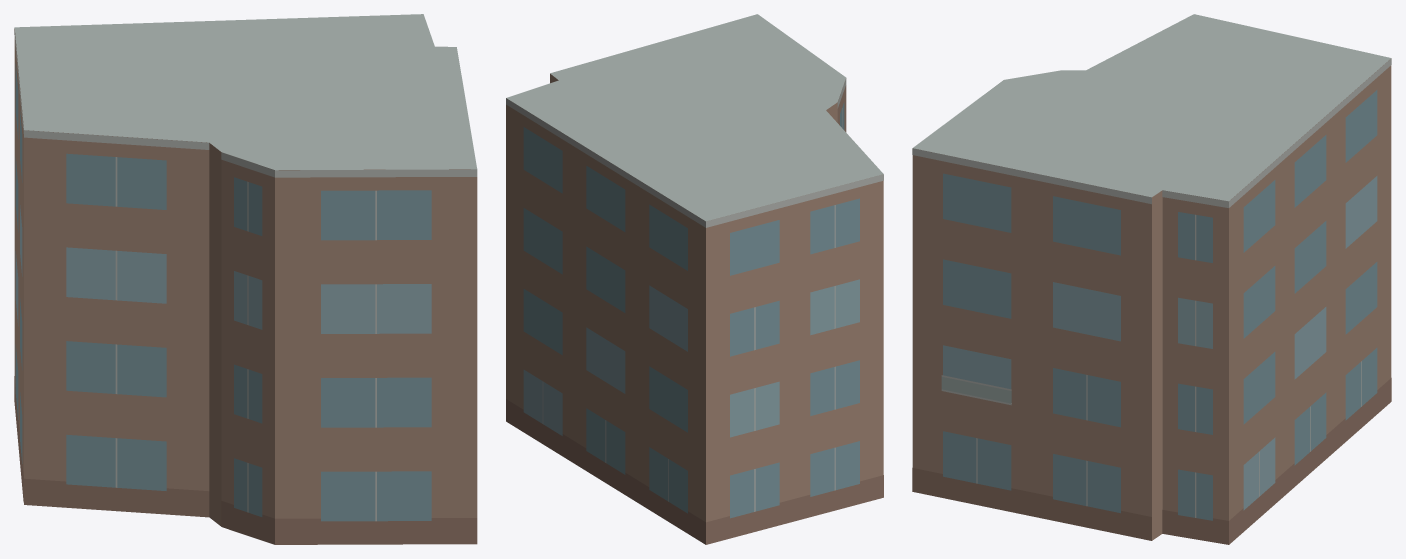
Rendered from survey-upis-32781270.glb.
The picture shows the model from 3 angles, left to right: view 1: azimuth 30°, elevation 25°; view 2: azimuth 150°, elevation 25°; view 3: azimuth 270°, elevation 25°; orthographic projection. The views are drawn at different scales.
Parts seen in each view (by area): view 1: survey-upis-32781270.tmp; view 2: survey-upis-32781270.tmp; view 3: survey-upis-32781270.tmp.
Part boxes in pixels (x1,y1,x2,y2): survey-upis-32781270.tmp: [14, 14, 477, 544]; survey-upis-32781270.tmp: [506, 14, 883, 544]; survey-upis-32781270.tmp: [912, 14, 1391, 544].
Bounding box in the file's own units: 14.27 × 12.2 × 15.43.
